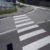zebra: (13, 14, 50, 50)
